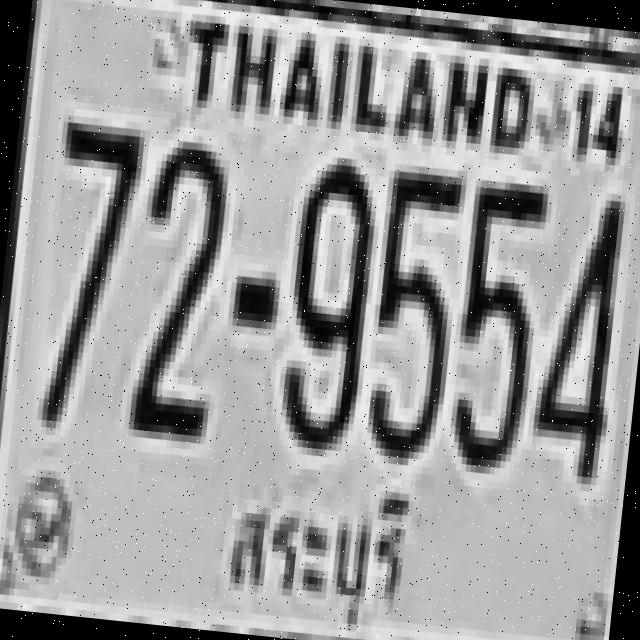0: (273, 154, 376, 451)
2: (122, 134, 229, 425), (127, 131, 227, 400)
4: (524, 187, 626, 478)
5: (360, 163, 462, 460), (442, 172, 544, 468)
7: (33, 114, 141, 420), (44, 114, 141, 313)
9: (274, 153, 376, 444)
SaraBuri: (203, 467, 422, 640)
